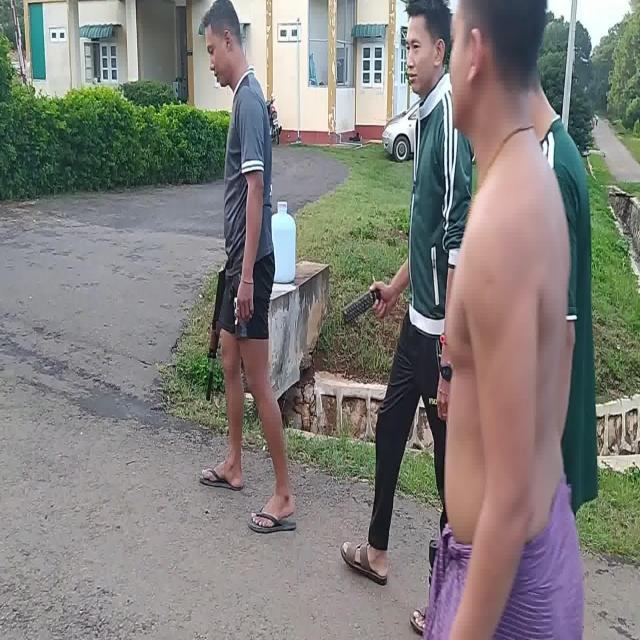gun: (205, 267, 227, 401), (439, 332, 447, 344)
